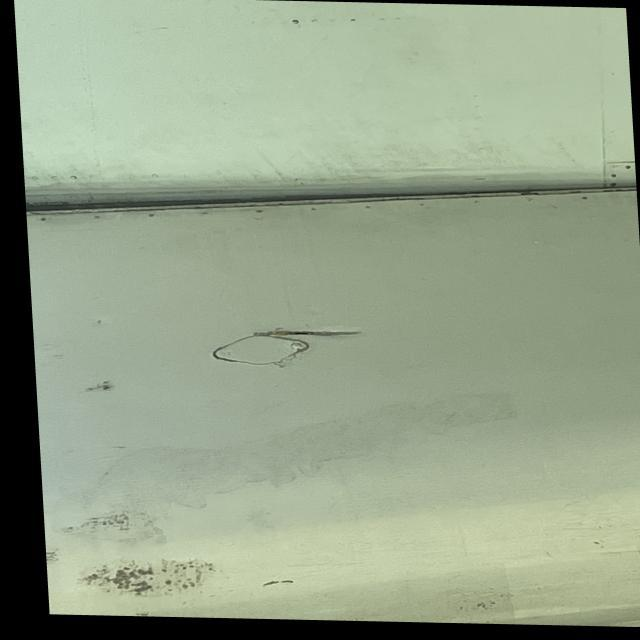crack: (260, 326, 366, 342)
